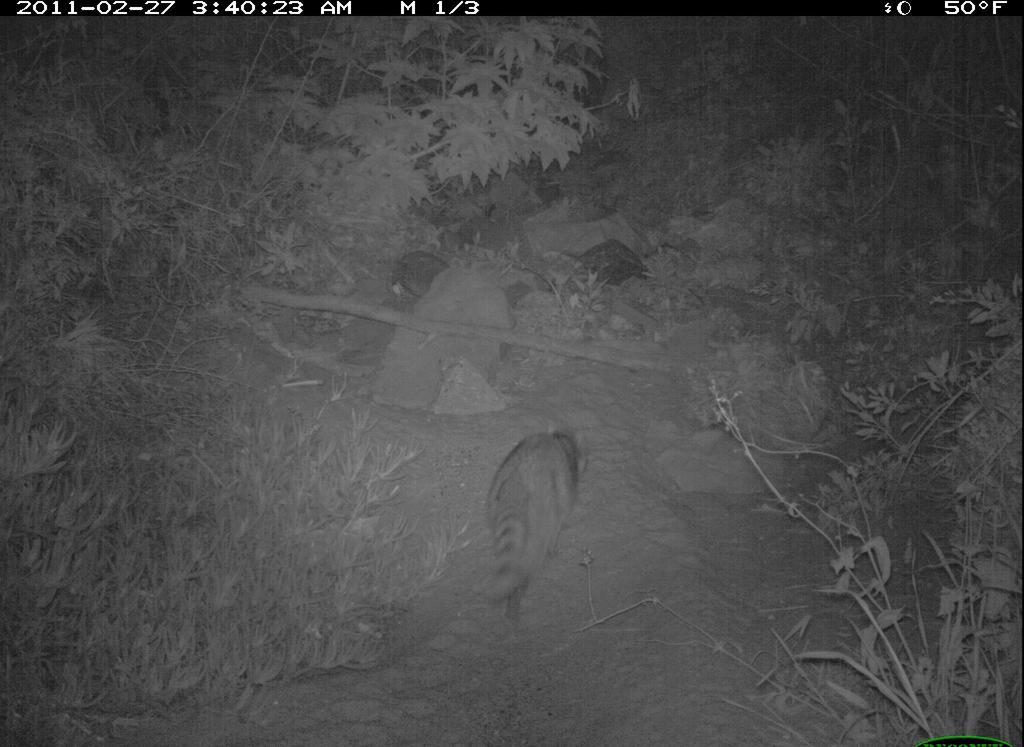raccoon: (475, 419, 600, 635)
